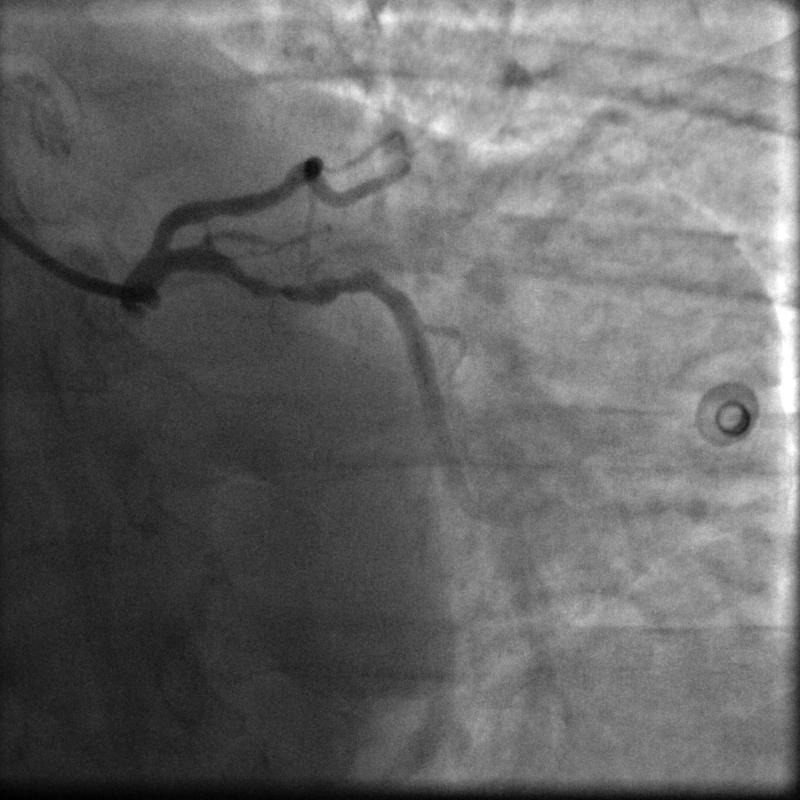Stenosis: (250, 271, 311, 305)
